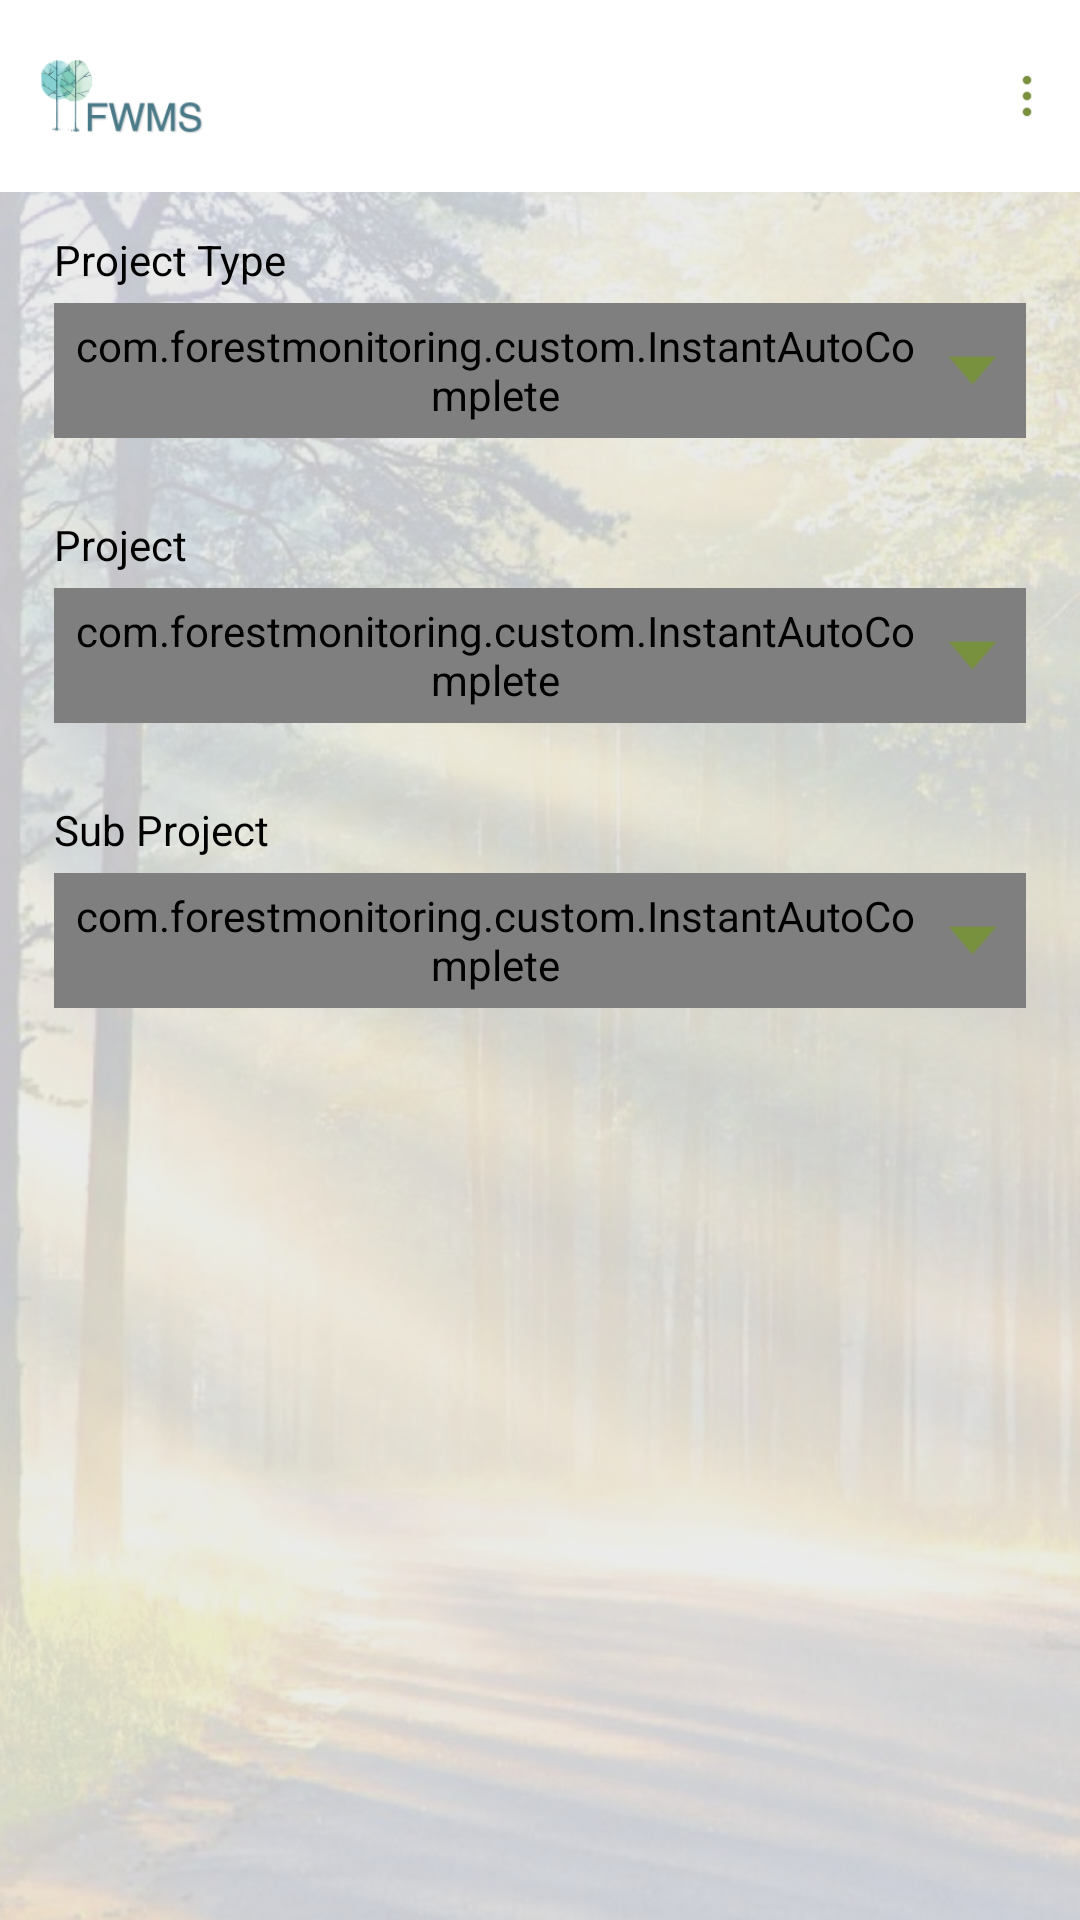

Locate icon controls on the screen. Image size 1080*1920, boxes as (x1,y1,x2,y2).
dropdown arrow: (949,356,996,384), (949,641,996,669), (949,926,996,954)
